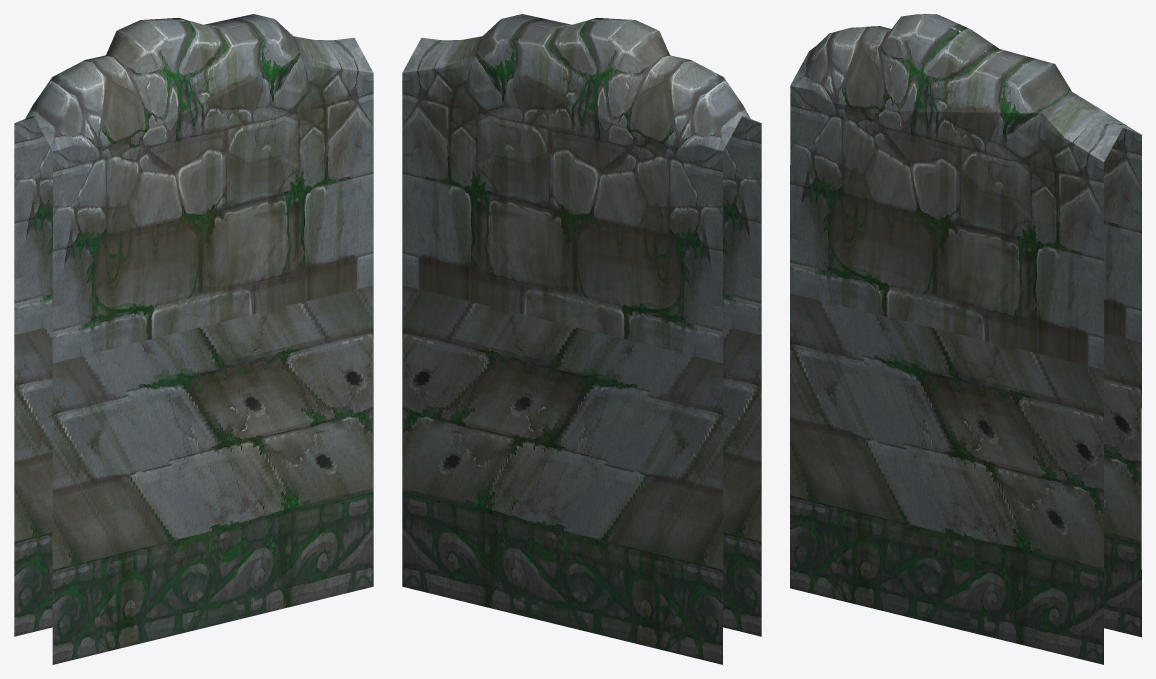
Rendered from stemple_wall_straight_dart_02.fbx.
The picture shows the model from 3 angles, left to right: view 1: azimuth 30°, elevation 25°; view 2: azimuth 150°, elevation 25°; view 3: azimuth 330°, elevation 25°; orthographic projection. The views are drawn at different scales.
Visible parts, largest first — view 1: stemple_wall_straight_dart_02-0; view 2: stemple_wall_straight_dart_02-0; view 3: stemple_wall_straight_dart_02-0.
Part boxes in pixels (box(x1,y1,x2,y2)): stemple_wall_straight_dart_02-0: box(14, 14, 373, 664); stemple_wall_straight_dart_02-0: box(402, 14, 761, 664); stemple_wall_straight_dart_02-0: box(790, 14, 1141, 664).
Bounding box in the file's own units: 4 × 7.15 × 0.8319.
